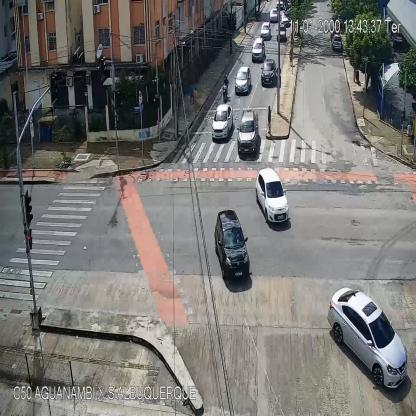car: (328, 286, 407, 386), (213, 212, 250, 281), (254, 168, 289, 224), (238, 108, 260, 154), (212, 104, 232, 140), (235, 66, 251, 95), (262, 58, 276, 84), (252, 38, 265, 61), (261, 22, 271, 39), (276, 24, 286, 40), (332, 34, 342, 49), (280, 12, 290, 27), (270, 8, 278, 22), (276, 1, 283, 8)
motorbike: (222, 75, 228, 101)
person: (193, 87, 198, 115), (189, 82, 194, 106), (268, 106, 272, 134), (289, 44, 293, 67)
